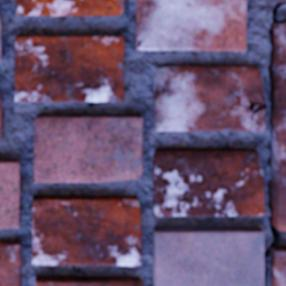brick: (153, 148, 264, 216), (33, 196, 141, 265), (154, 66, 266, 131), (34, 116, 142, 183), (15, 36, 124, 101), (153, 227, 264, 285), (136, 0, 246, 51), (274, 21, 285, 231), (16, 0, 124, 15), (0, 160, 19, 227), (0, 241, 22, 285), (36, 276, 142, 285), (271, 247, 285, 285), (0, 16, 1, 61), (264, 0, 285, 2), (0, 108, 1, 144)
crack: (263, 2, 285, 283), (229, 90, 267, 122), (136, 38, 144, 51)
